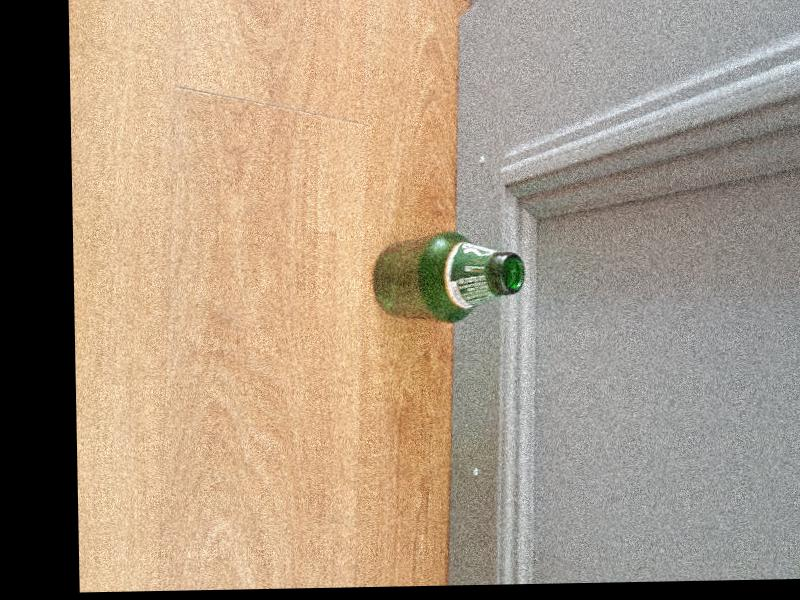Beer: (371, 230, 524, 324)
